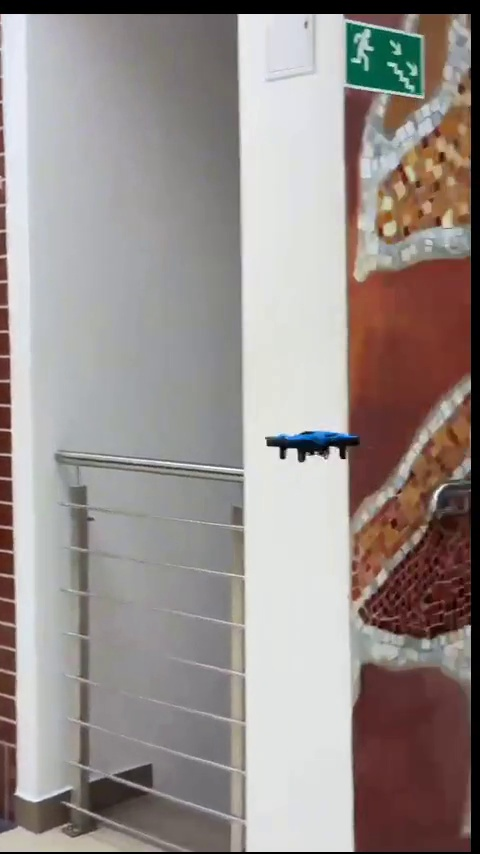drone: (271, 428, 355, 458)
